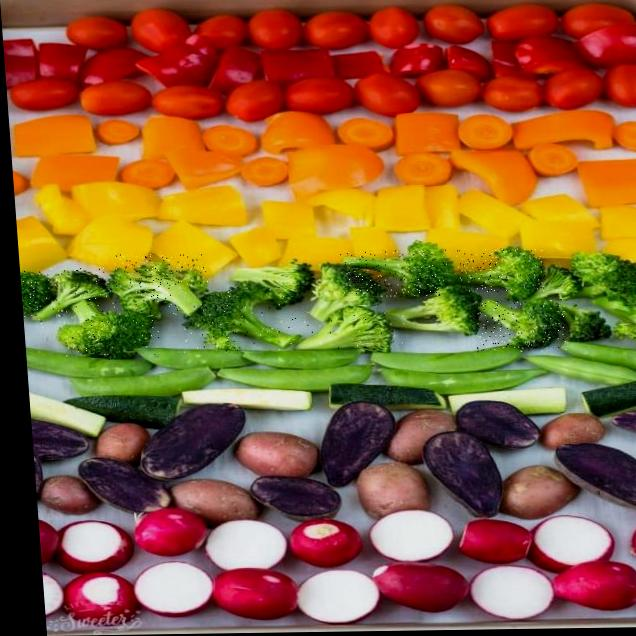Broccoli: (178, 285, 297, 353), (62, 293, 161, 360), (114, 253, 210, 315), (340, 249, 450, 297), (32, 267, 115, 328), (474, 299, 568, 352), (563, 245, 636, 307), (293, 310, 406, 350), (456, 248, 546, 292), (232, 259, 305, 302), (20, 270, 58, 320)
